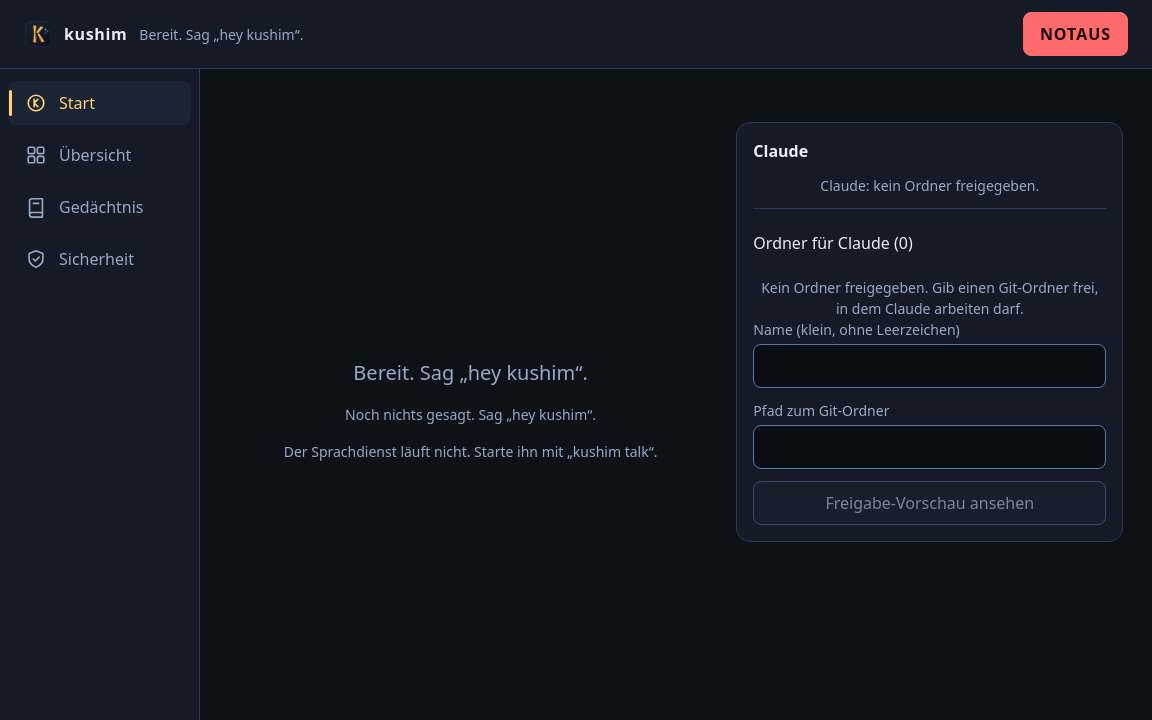
Scenario: Dienst ohne Übersicht (kushim serve) › sagt ehrlich, dass es die Übersicht nur mit dem Sprachdienst gibt, statt ewig zu laden
This screenshot has width=1152, height=720.
Click the button "Übersicht" at (100, 155), box [8, 133, 191, 177]
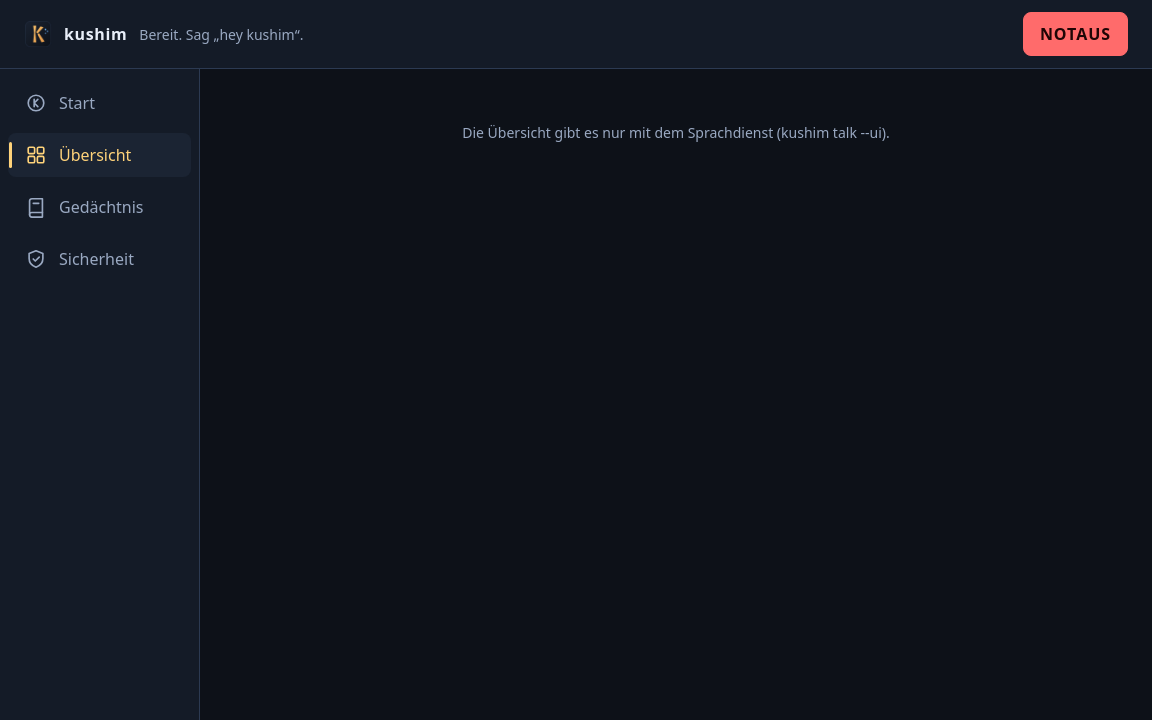
Expected: the text "nur mit dem Sprachdienst" is shown, [462, 123, 890, 142]
